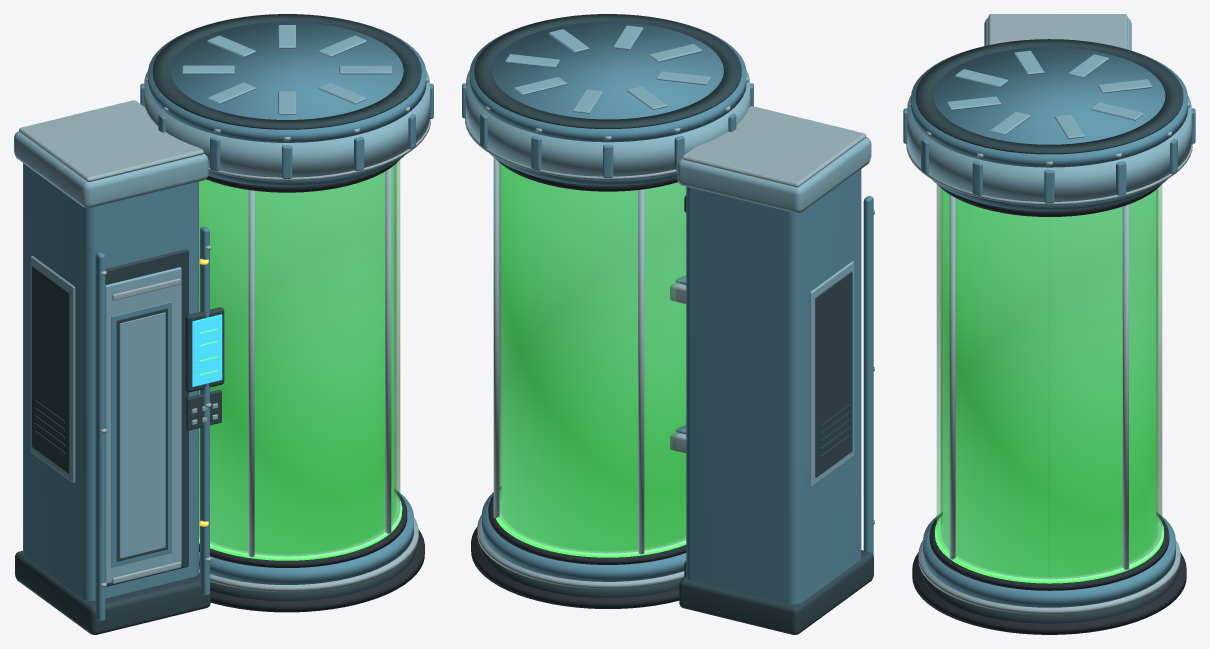
The model's file is BlueTube_GreenCore.glb.
3 views of the same model, side by side, from view 1: azimuth 30°, elevation 25°; view 2: azimuth 150°, elevation 25°; view 3: azimuth 270°, elevation 25° (orthographic).
Visible parts, largest first — view 1: Tube_Glossy_cobalt_blue_enamel, Tube_Cyan_glass_shell, Tube_Cyan_energy_core, Tube_Worn_light_blue_panels, Tube_Recessed_graphite, Tube_Polished_steel_edge, Tube_Dark_rubber_gasket, Tube_Diagnostic_screen, Tube_Indicator_bright_cyan; view 2: Tube_Glossy_cobalt_blue_enamel, Tube_Cyan_glass_shell, Tube_Cyan_energy_core, Tube_Recessed_graphite, Tube_Worn_light_blue_panels, Tube_Polished_steel_edge, Tube_Dark_rubber_gasket, Tube_Indicator_bright_cyan; view 3: Tube_Cyan_glass_shell, Tube_Cyan_energy_core, Tube_Glossy_cobalt_blue_enamel, Tube_Worn_light_blue_panels, Tube_Polished_steel_edge, Tube_Recessed_graphite, Tube_Dark_rubber_gasket, Tube_Indicator_bright_cyan.
Part boxes in pixels (<box>): Tube_Glossy_cobalt_blue_enamel: <box>23,19,433,621</box>; Tube_Cyan_glass_shell: <box>199,160,400,556</box>; Tube_Cyan_energy_core: <box>199,165,393,553</box>; Tube_Worn_light_blue_panels: <box>14,25,429,583</box>; Tube_Recessed_graphite: <box>15,14,421,634</box>; Tube_Polished_steel_edge: <box>19,76,430,592</box>; Tube_Dark_rubber_gasket: <box>199,160,424,612</box>; Tube_Diagnostic_screen: <box>192,314,222,386</box>; Tube_Indicator_bright_cyan: <box>199,328,402,560</box>; Tube_Glossy_cobalt_blue_enamel: <box>462,19,873,604</box>; Tube_Cyan_glass_shell: <box>499,163,686,553</box>; Tube_Cyan_energy_core: <box>501,165,686,550</box>; Tube_Recessed_graphite: <box>474,14,873,634</box>; Tube_Worn_light_blue_panels: <box>466,25,871,486</box>; Tube_Polished_steel_edge: <box>465,76,874,588</box>; Tube_Dark_rubber_gasket: <box>471,159,686,608</box>; Tube_Indicator_bright_cyan: <box>495,490,686,557</box>; Tube_Cyan_glass_shell: <box>936,184,1162,578</box>; Tube_Cyan_energy_core: <box>943,190,1155,576</box>; Tube_Glossy_cobalt_blue_enamel: <box>903,46,1195,607</box>; Tube_Worn_light_blue_panels: <box>907,18,1191,201</box>; Tube_Polished_steel_edge: <box>906,14,1192,614</box>; Tube_Recessed_graphite: <box>915,39,1183,623</box>; Tube_Dark_rubber_gasket: <box>912,184,1186,634</box>; Tube_Indicator_bright_cyan: <box>935,515,1163,583</box>.
Size of the model in its own units: 9.44 by 12.1 by 6.63.
